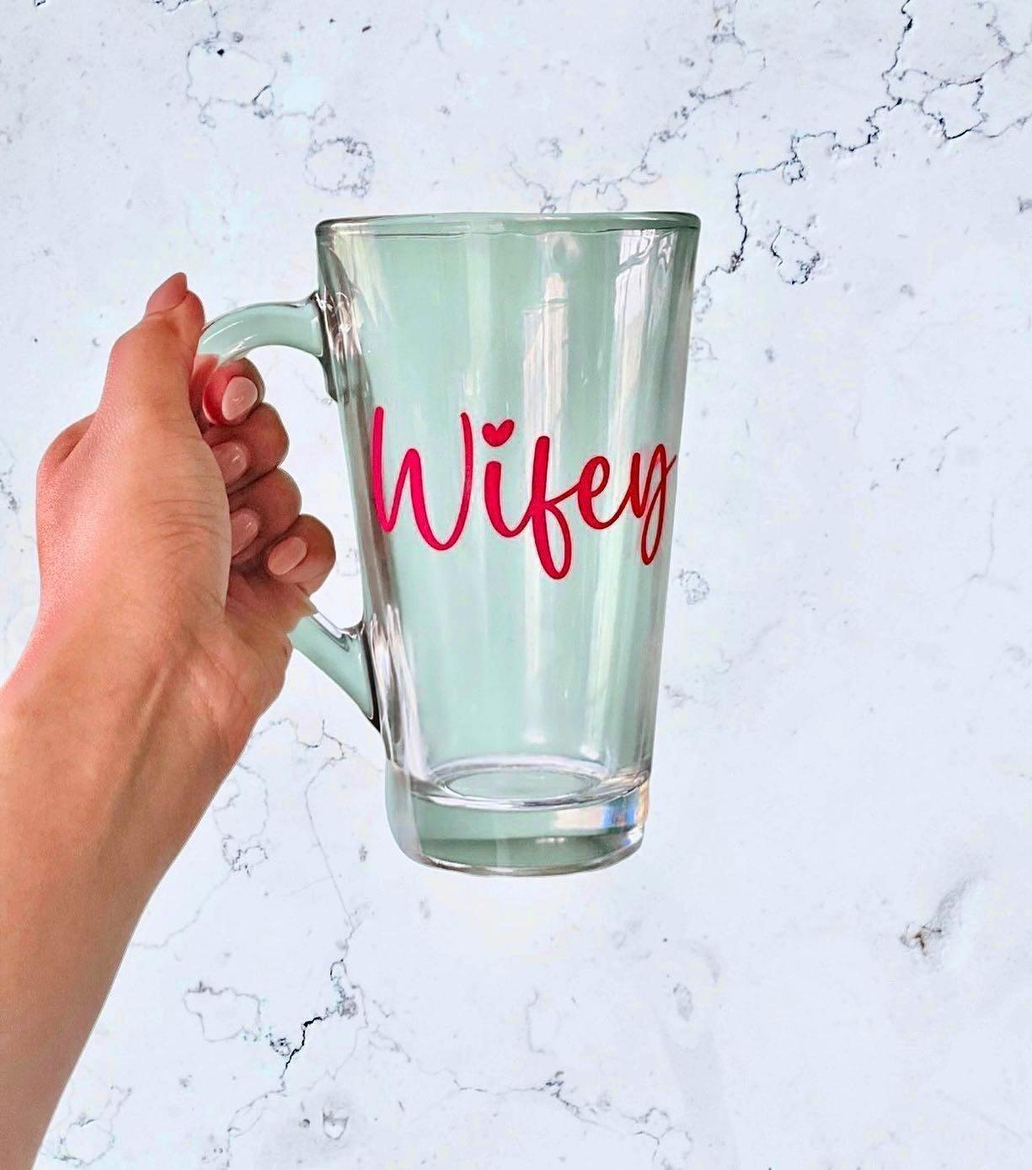glass-mug: (181, 191, 717, 882)
